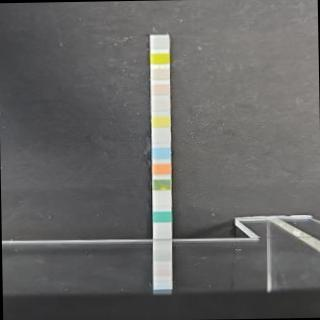mark: (150, 36, 170, 50), (151, 115, 171, 128), (152, 146, 170, 160), (150, 68, 170, 80), (150, 83, 170, 95), (150, 99, 170, 111), (152, 179, 172, 191), (152, 162, 170, 175), (152, 210, 171, 222), (150, 53, 170, 64), (152, 131, 170, 143), (152, 196, 170, 207)
